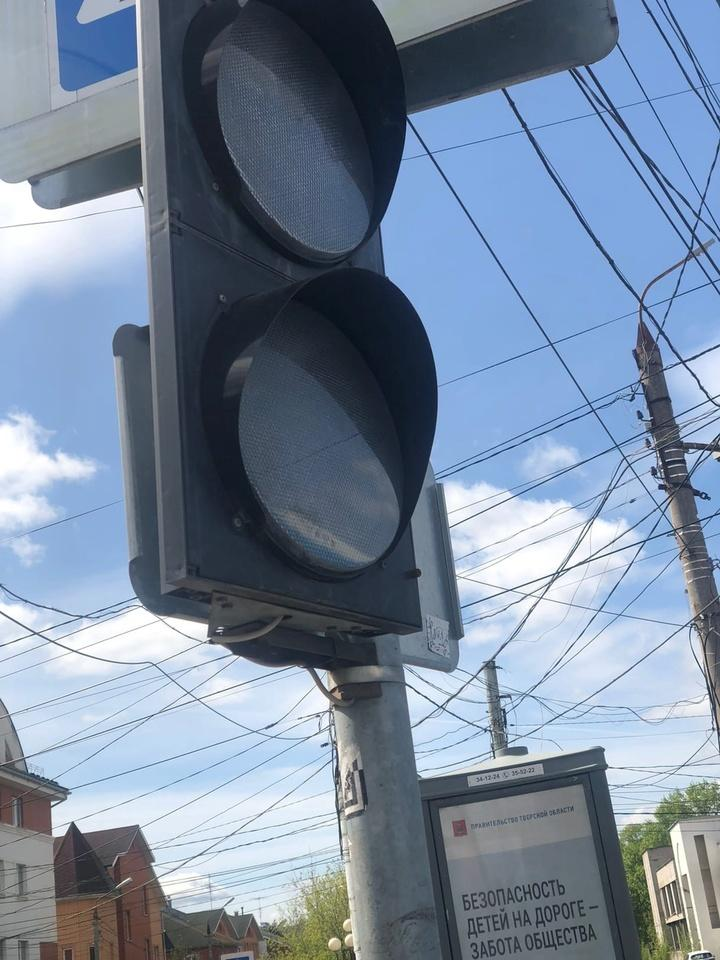off traffic light: (114, 0, 437, 669)
